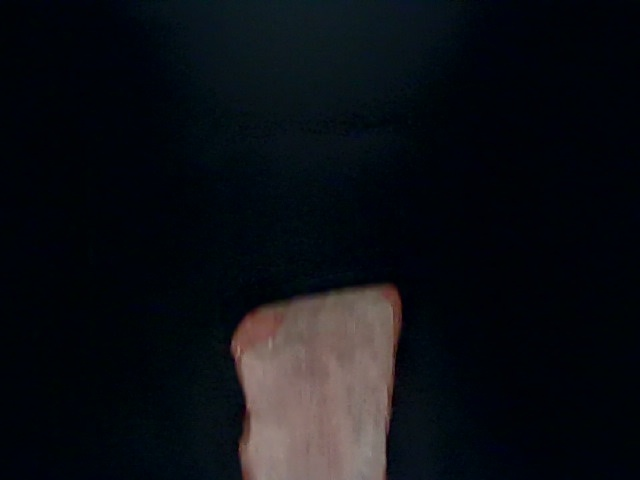KHSLJ: (4, 133, 274, 480)
